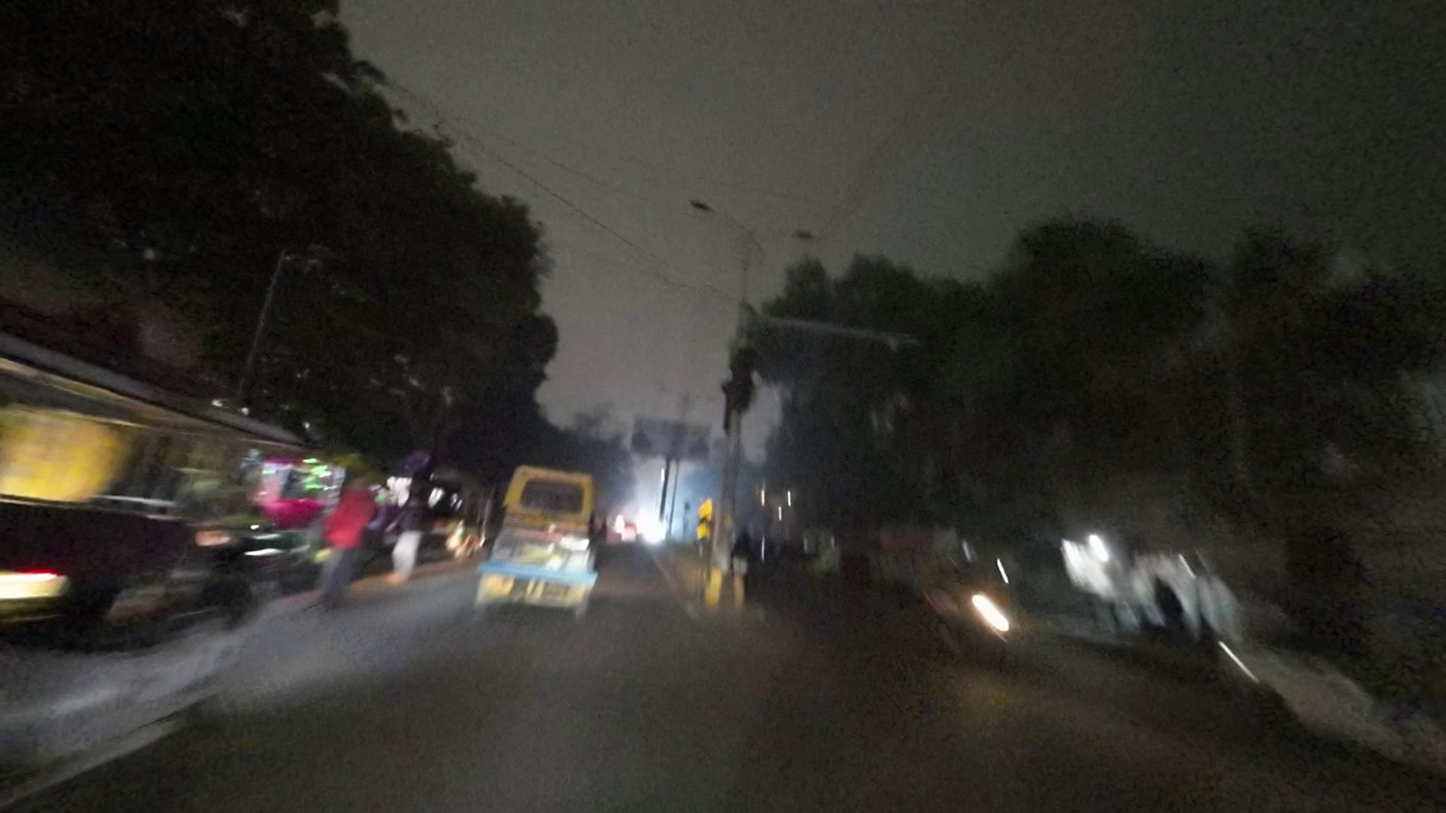streetlight: (690, 195, 750, 230), (757, 221, 818, 247)
